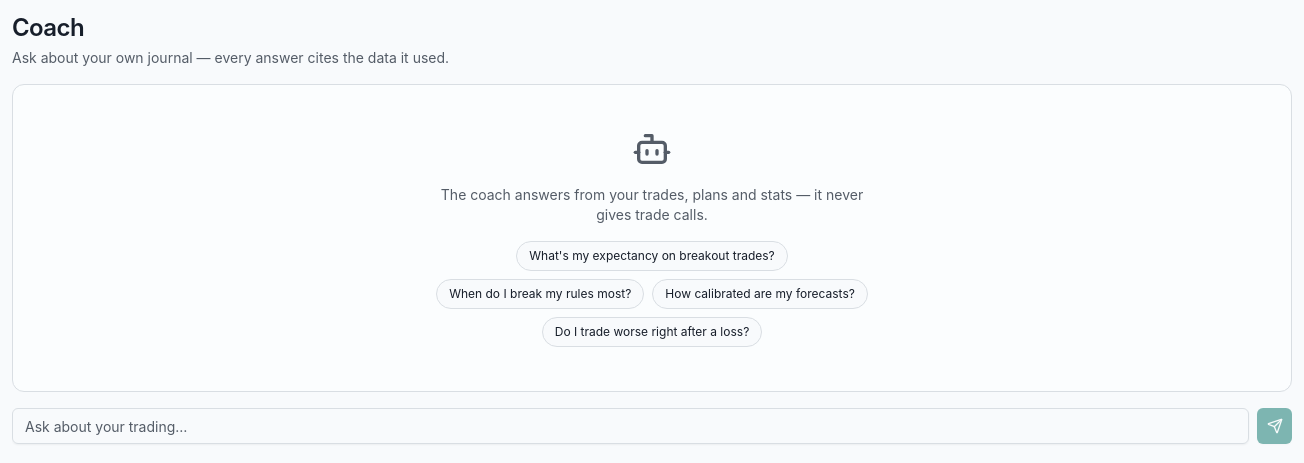
Test: CoachChatPage offline state › streams deltas into an assistant bubble and shows tool chips
In the field named "Message the coach": x=631, y=426 x1=12 y1=408 x2=1249 y2=444, type "expectancy?"
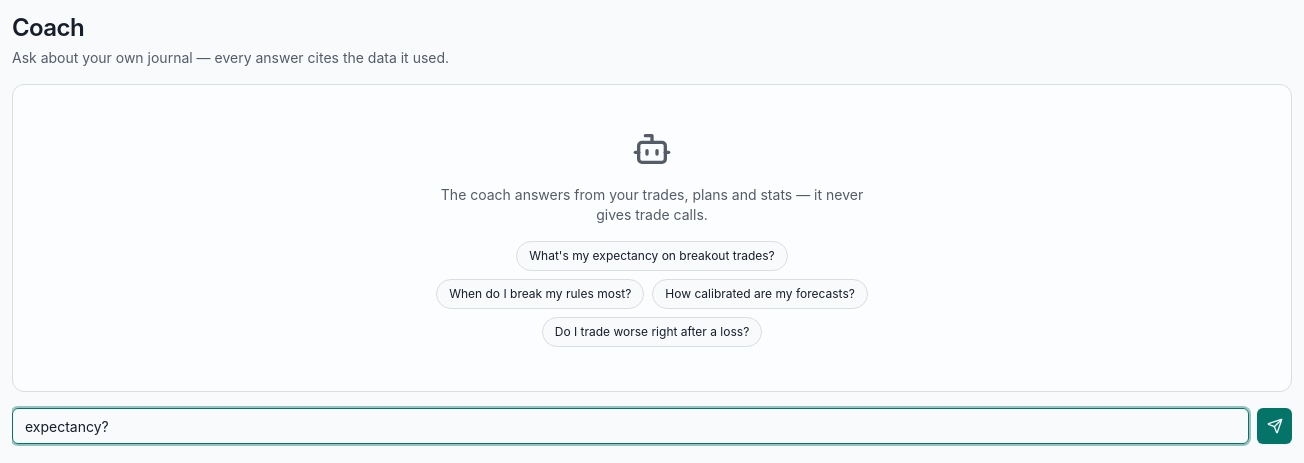
Click the button named "Send": x=1275, y=426 x1=1257 y1=408 x2=1292 y2=444
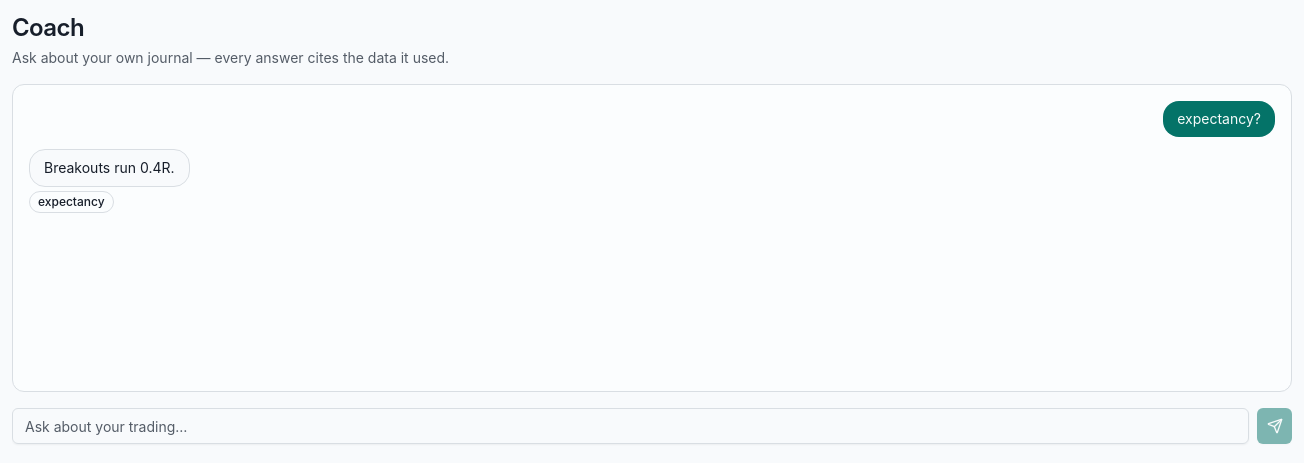
Now the text "Breakouts run 0.4R." is shown, box x1=29 y1=149 x2=190 y2=187
Now the text "expectancy" is shown, box x1=29 y1=191 x2=114 y2=213
